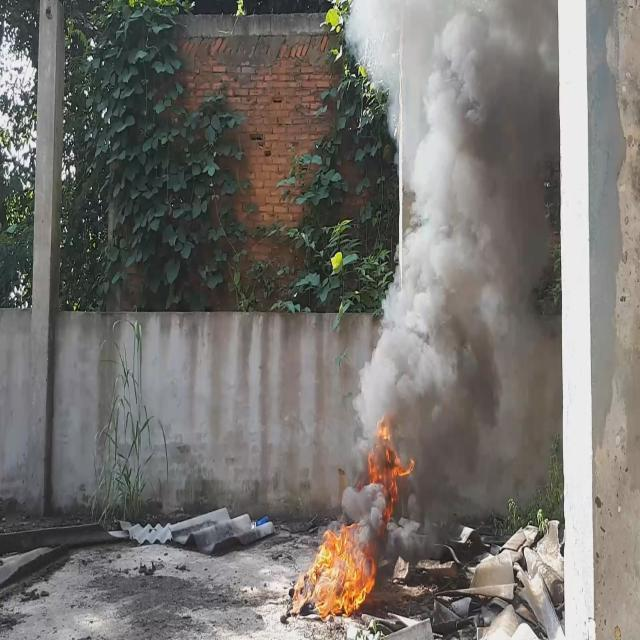Fire: (314, 413, 406, 622)
Smoke: (345, 0, 557, 521)
